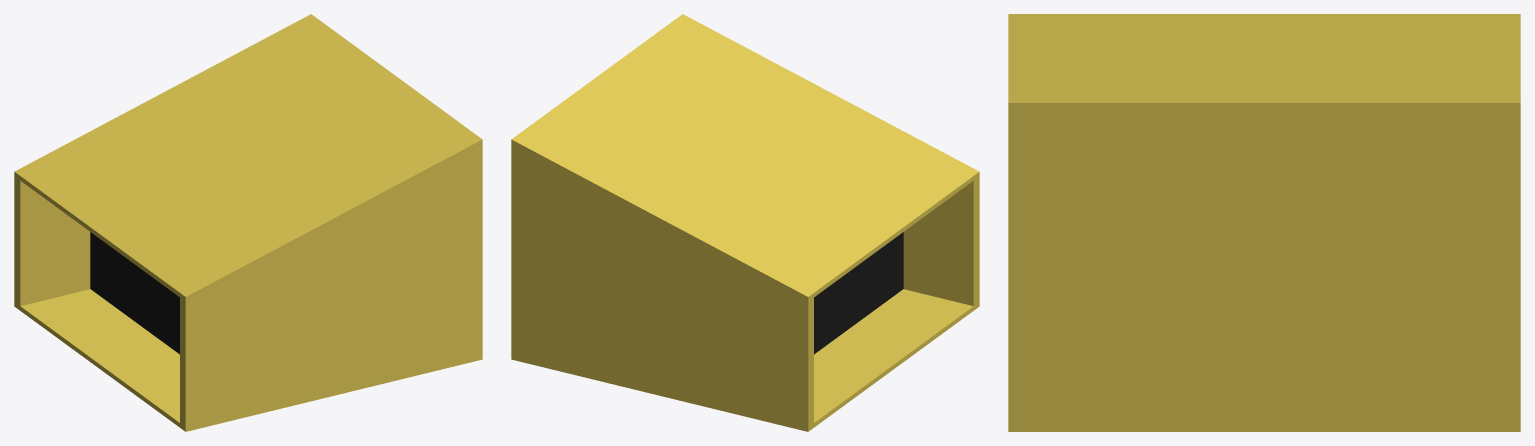
Rendered from SpawnBandeja.fbx.
The picture shows the model from 3 angles, left to right: view 1: azimuth 30°, elevation 25°; view 2: azimuth 150°, elevation 25°; view 3: azimuth 270°, elevation 25°; orthographic projection. The views are drawn at different scales.
Visible parts, largest first — view 1: Cube.001; view 2: Cube.001; view 3: Cube.001.
Part boxes in pixels (x1,y1,x2,y2): Cube.001: [14, 14, 482, 431]; Cube.001: [511, 14, 979, 431]; Cube.001: [1008, 14, 1520, 431].
Bounding box in the file's own units: 0.4898 × 0.3471 × 0.4898.
